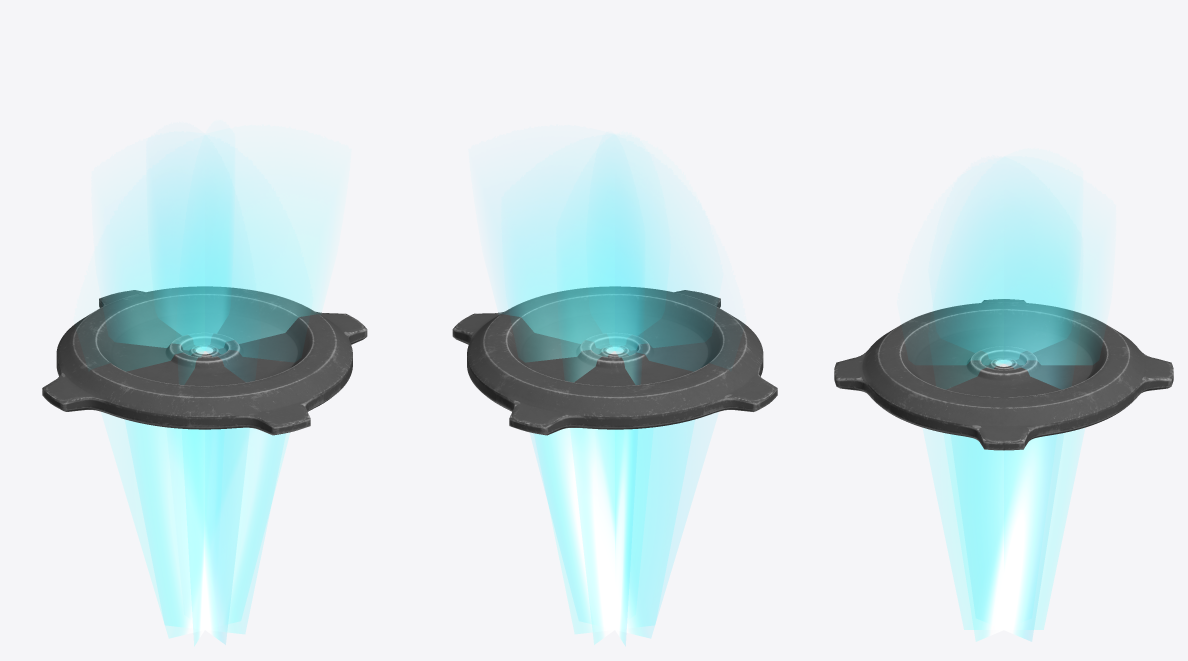
File: hologram-platform.glb
The picture shows the model from 3 angles, left to right: view 1: azimuth 30°, elevation 25°; view 2: azimuth 150°, elevation 25°; view 3: azimuth 270°, elevation 25°; orthographic projection. The views are drawn at different scales.
Visible parts, largest first — view 1: Plane_Hologram-lights_0, Circle_Metal-part_0; view 2: Plane_Hologram-lights_0, Circle_Metal-part_0; view 3: Plane_Hologram-lights_0, Circle_Metal-part_0.
Boxes of the visible parts, x1,y1,x2,y2 form: Plane_Hologram-lights_0: [110, 149, 318, 645]; Circle_Metal-part_0: [42, 286, 367, 435]; Plane_Hologram-lights_0: [501, 151, 704, 645]; Circle_Metal-part_0: [452, 286, 777, 435]; Plane_Hologram-lights_0: [933, 187, 1089, 640]; Circle_Metal-part_0: [834, 299, 1173, 450].
Size of the model in its own units: 295 by 409 by 239.
2 materials, 2 textured.
